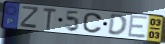5: (63, 10, 81, 33)
C: (82, 12, 103, 35)
D: (106, 14, 128, 37)
E: (127, 14, 150, 40)
T: (42, 7, 58, 31)
Z: (19, 5, 40, 30)
